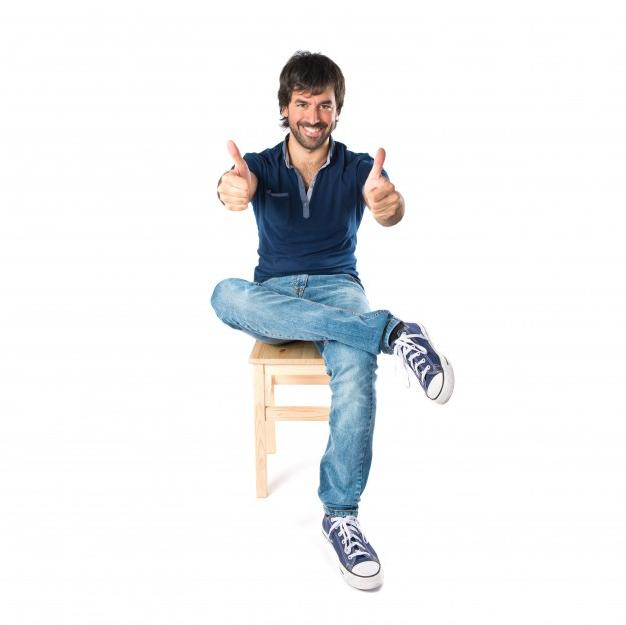thumbsup: (367, 147, 400, 220), (217, 140, 250, 211)
